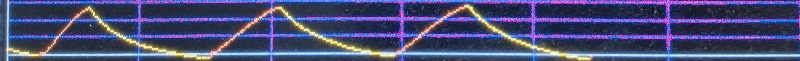normal_volume: (4, 0, 595, 61)
